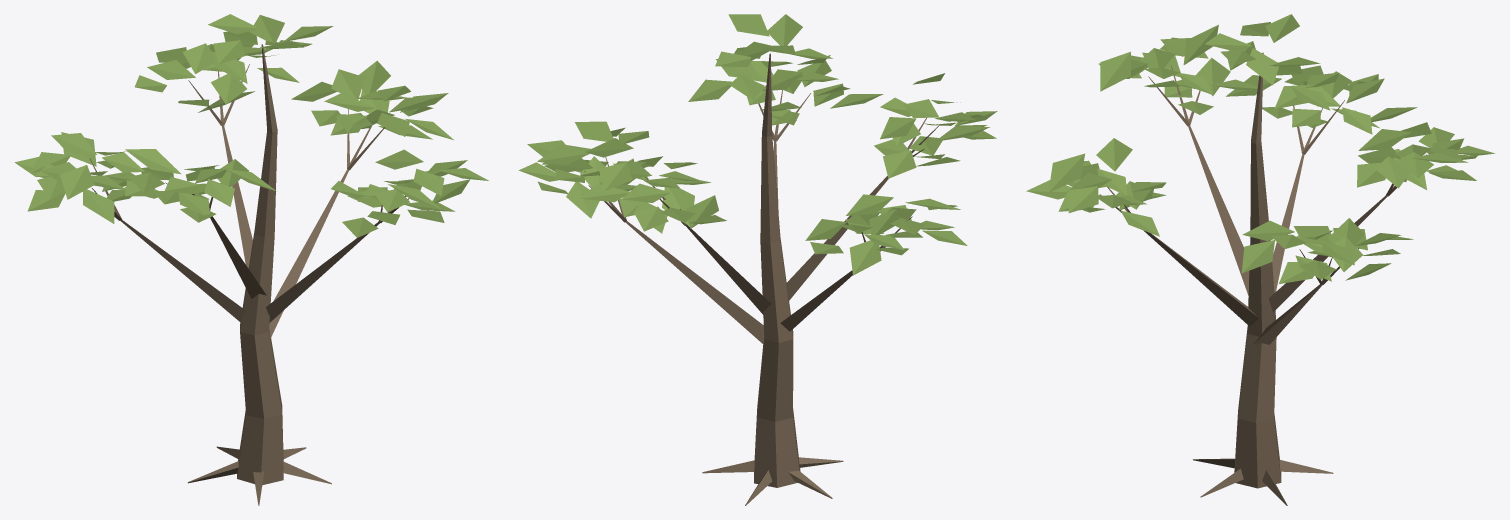
The model's file is oak-sapling-lod1.glb.
3 renders of one model, left to right at view 1: azimuth 30°, elevation 25°; view 2: azimuth 150°, elevation 25°; view 3: azimuth 270°, elevation 25°, orthographic.
Visible parts, largest first — view 1: understory_oak-sapling_LOD1; view 2: understory_oak-sapling_LOD1; view 3: understory_oak-sapling_LOD1.
Boxes of the visible parts, x1,y1,x2,y2 form: understory_oak-sapling_LOD1: [14, 14, 488, 505]; understory_oak-sapling_LOD1: [518, 14, 997, 505]; understory_oak-sapling_LOD1: [1026, 14, 1495, 505].
Size of the model in its own units: 2.32 by 2.3 by 2.19.
